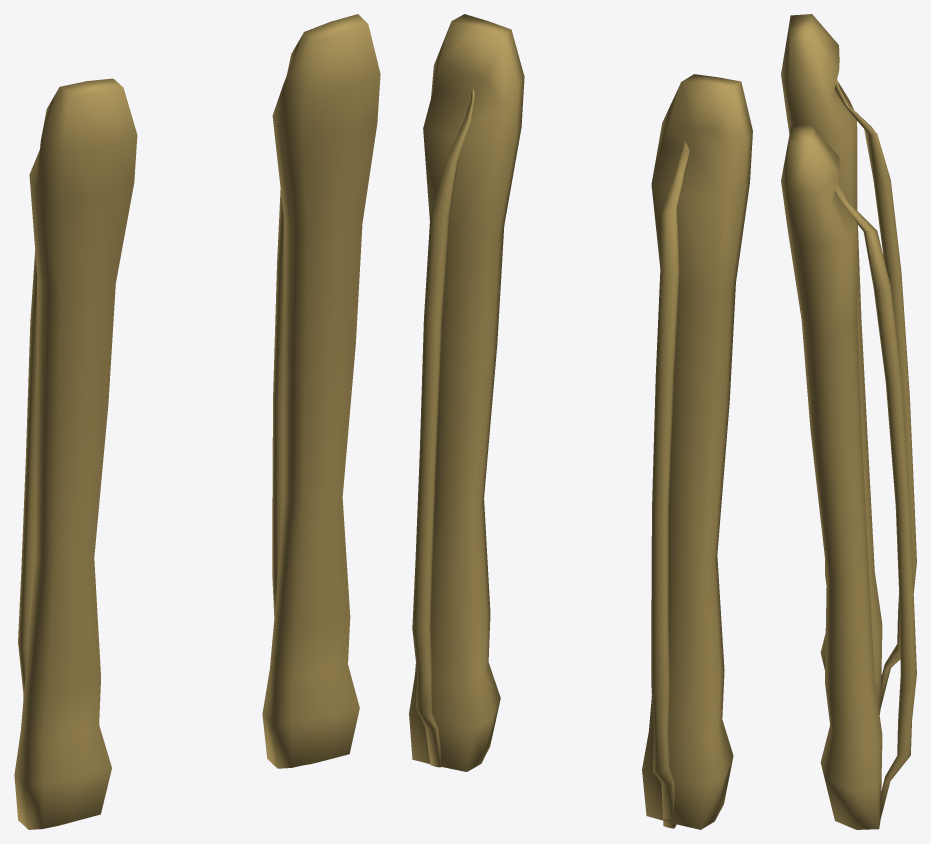
The model's file is Tibia.obj.
3 renders of one model, left to right at view 1: azimuth 30°, elevation 25°; view 2: azimuth 150°, elevation 25°; view 3: azimuth 270°, elevation 25°, orthographic. The views are drawn at different scales.
Parts seen in each view (by area): view 1: Tibia; view 2: Tibia; view 3: Tibia.
Part boxes in pixels (x1=…): Tibia: x1=14, y1=14, x2=380, y2=829; Tibia: x1=409, y1=14, x2=752, y2=829; Tibia: x1=781, y1=14, x2=916, y2=829.
Bounding box in the file's own units: 1.65 × 3.61 × 0.646.
